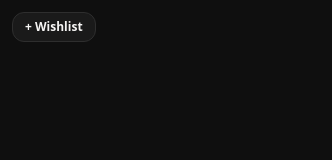
it: deal collection actions › shows a failed save and allows retry without claiming success
The width and height of the screenshot is (332, 160).
Click the button with aria-label "Add Portal 2 to wishlist". click: (54, 27)
box: [12,12,96,42]
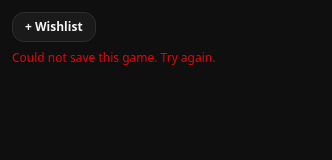
Expected: the text "In your wishlist" is not shown
Expected: the message shows "Could not save this game", [12,49,215,66]
Click the button with aria-label "Add Portal 2 to wishlist". click: (54, 27)
box: [12,12,96,42]
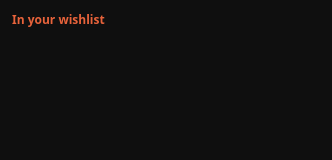
Expected: the text "In your wishlist" is shown, [12,11,105,28]
